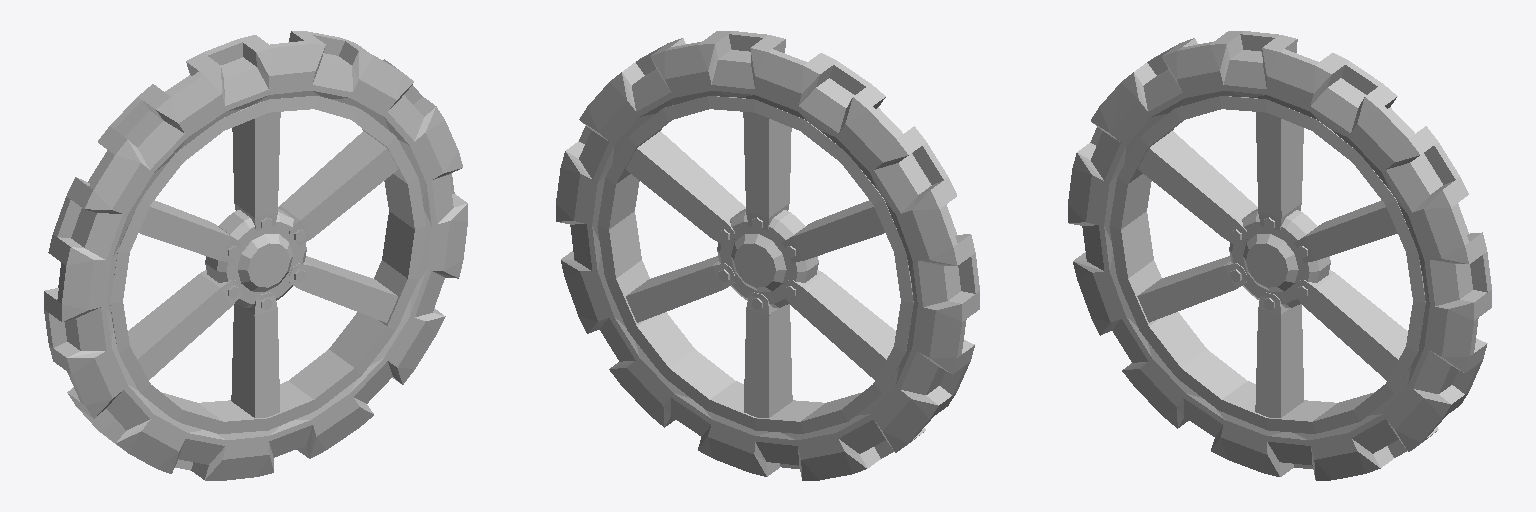
The model's file is obj_interactive_fant_offroad_wheel_8.obj.
3 views of the same model, side by side, from view 1: azimuth 30°, elevation 25°; view 2: azimuth 150°, elevation 25°; view 3: azimuth 330°, elevation 25° (orthographic).
Visible parts, largest first — view 1: obj_interactive_fant_offroad_wheel_8_Mesh; view 2: obj_interactive_fant_offroad_wheel_8_Mesh; view 3: obj_interactive_fant_offroad_wheel_8_Mesh.
Part boxes in pixels (x1,y1,x2,y2): obj_interactive_fant_offroad_wheel_8_Mesh: (44,31,467,480); obj_interactive_fant_offroad_wheel_8_Mesh: (556,31,979,480); obj_interactive_fant_offroad_wheel_8_Mesh: (1068,31,1491,480).
Bounding box in the file's own units: 9 × 9 × 1.